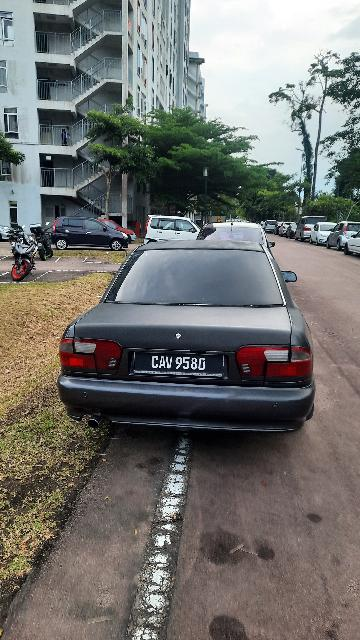License_Plate: (129, 346, 232, 380)
car: (47, 235, 326, 439)
